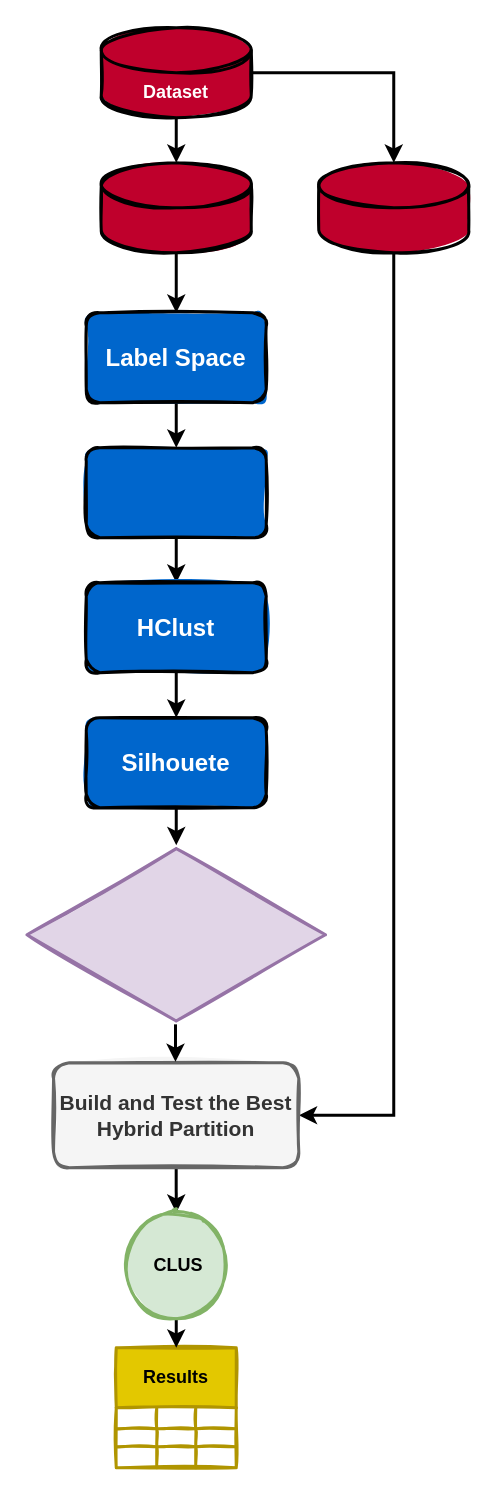
The diagram is 497 pixels wide and 1494 high, and some of its shapes have lost their labels. Each missing label, with the centre of its shape:
Best Hybrid Partition: point 175,934
Kohonen: point 175,492
Test Set: point 393,207
Train Set: point 175,207
